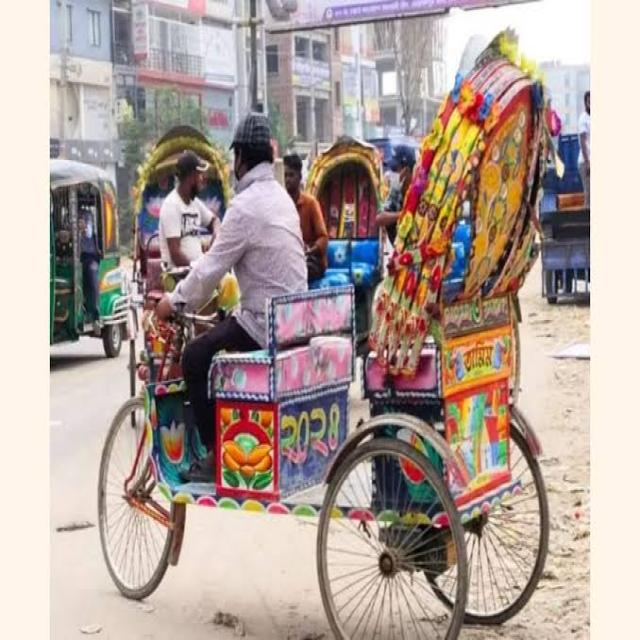CNG: (7, 127, 140, 385)
Rickshaw: (55, 16, 583, 640), (125, 78, 251, 510), (268, 85, 398, 483)
